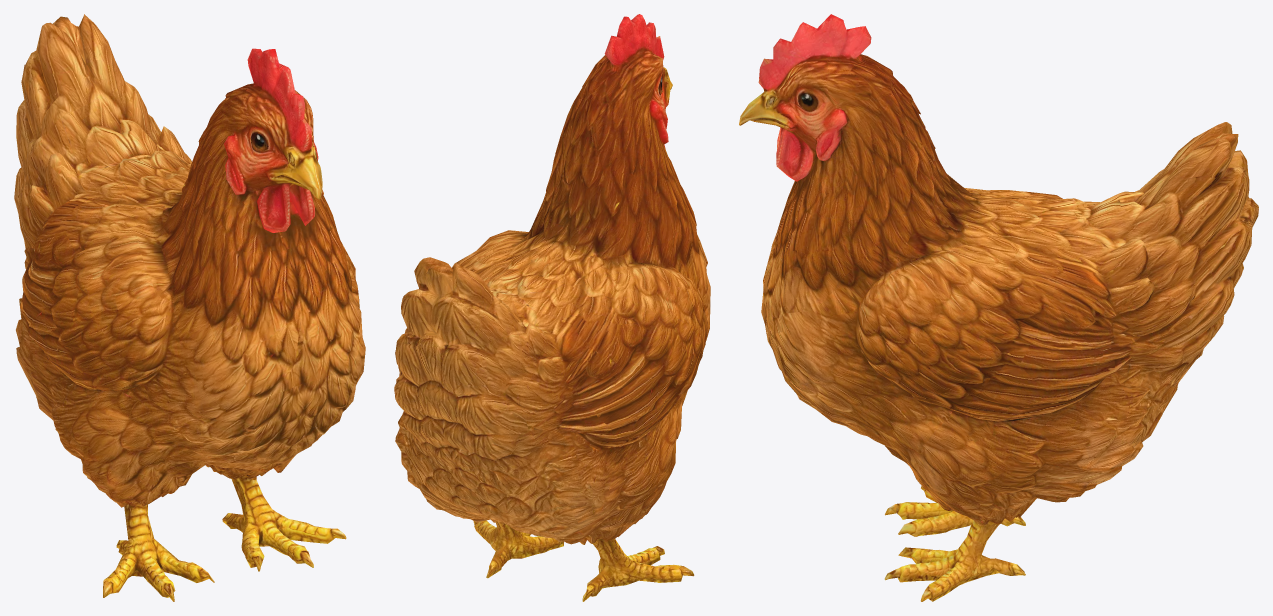
The model's file is chicken.glb.
3 renders of one model, left to right at view 1: azimuth 30°, elevation 25°; view 2: azimuth 150°, elevation 25°; view 3: azimuth 270°, elevation 25°, orthographic. The views are drawn at different scales.
Size of the model in its own units: 0.9723 by 1.9 by 1.66.
Materials: 1 (1 with a texture image).
